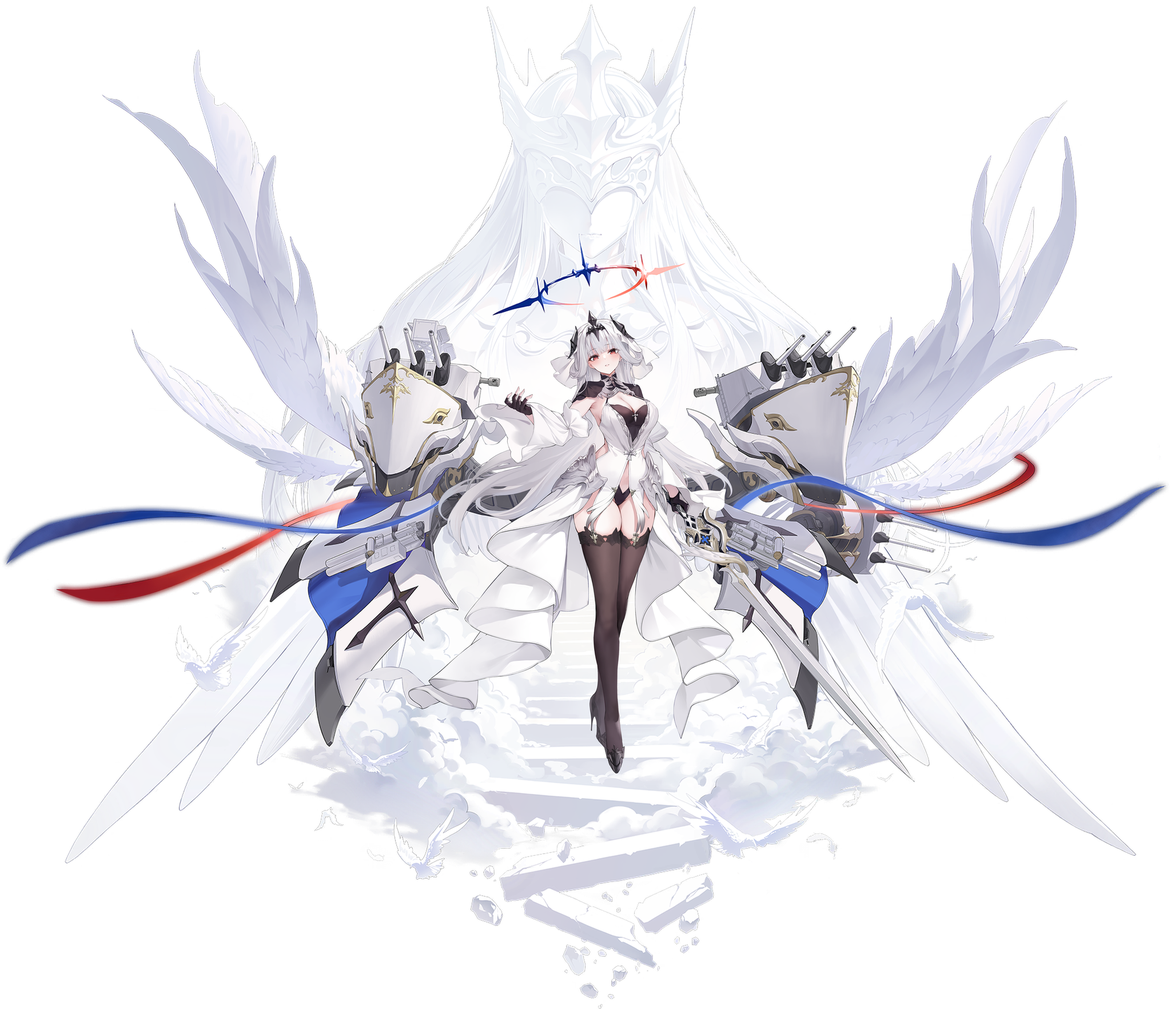person: (477, 281, 716, 796)
